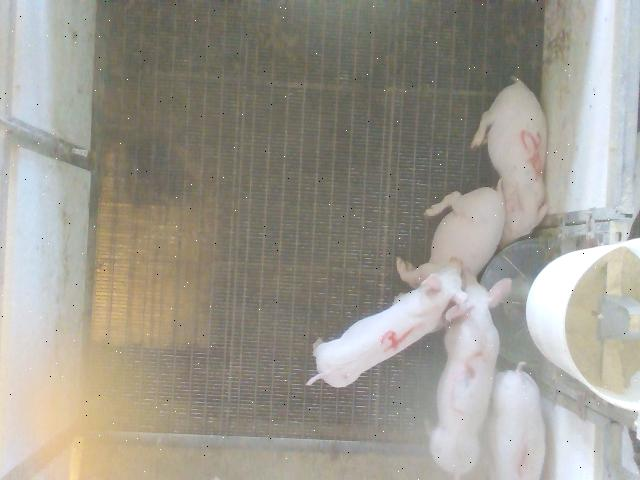pig-1: (492, 362, 545, 479)
pig-3: (430, 268, 510, 476)
pig-4: (308, 259, 466, 388)
pig-5: (471, 78, 549, 246)
